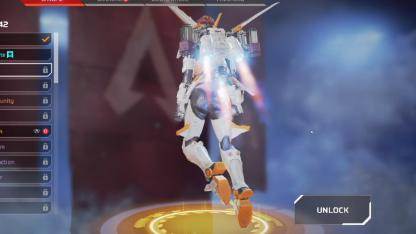Target: (172, 11, 268, 186)
